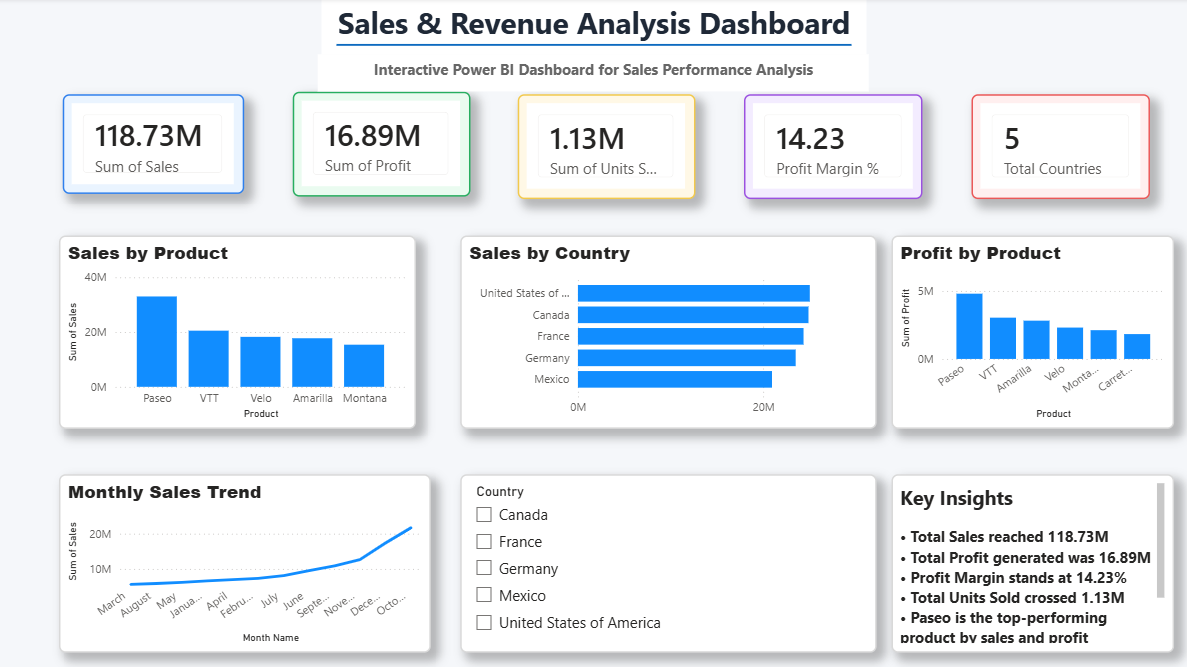

Layout of this report page (visuals, bound fields, positions):
{"tool":"powerbi","page":{"name":"Page 1","canvas":[1280,720],"ordinal":0},"visuals":[{"type":"cardVisual","fields":{"Data":["Sum(financials.Sales)"]},"box":[68.6,103.6,195,107.6],"z":0},{"type":"cardVisual","fields":{"Data":["Sum(financials.Profit)"]},"box":[315.7,100.9,191,113],"z":1000},{"type":"clusteredColumnChart","title":"Sales by Product","fields":{"Category":["financials.Product"],"Y":["Sum(financials.Sales)"]},"box":[64,256,384,208],"z":2000},{"type":"lineChart","title":"Monthly Sales Trend","fields":{"Category":["financials.Month Name"],"Y":["Sum(financials.Sales)"]},"box":[64,512,400,192],"z":3000},{"type":"clusteredBarChart","title":"Sales by Country","fields":{"Category":["financials.Country"],"Y":["Sum(financials.Sales)"]},"box":[496,256,448,208],"z":4000},{"type":"slicer","fields":{"Values":["financials.Country"]},"box":[496,512,448,192],"z":5000},{"type":"textbox","box":[346.8,0,586.3,60.5],"z":6000},{"type":"cardVisual","fields":{"Data":["Sum(financials.Units Sold)"]},"box":[558.8,103.6,191,113],"z":6001},{"type":"cardVisual","fields":{"Data":["financials.Profit Margin %"]},"box":[801.9,103.6,192.3,113],"z":6002},{"type":"clusteredColumnChart","title":"Profit by Product","fields":{"Category":["financials.Product"],"Y":["Sum(financials.Profit)"]},"box":[960,256,304,208],"z":6003},{"type":"cardVisual","fields":{"Data":["financials.Total Countries"]},"box":[1046.3,103.6,192.3,113],"z":6004},{"type":"textbox","box":[960,512,304,192],"z":6005},{"type":"textbox","box":[342.9,60.5,593.1,40.3],"z":6006},{"type":"shape","box":[363,0,554.1,100.9],"z":6007}]}

Visuals, with their boxes in screenshot pixels (x1, y1, x2, y2), scaled from the page's 1280x720 canvas onto the 1187x667 screenshot:
cardVisual - Sum(financials.Sales): <bbox>64, 96, 244, 196</bbox>
cardVisual - Sum(financials.Profit): <bbox>293, 93, 470, 198</bbox>
"Sales by Product" clusteredColumnChart: <bbox>59, 237, 415, 430</bbox>
"Monthly Sales Trend" lineChart: <bbox>59, 474, 430, 652</bbox>
"Sales by Country" clusteredBarChart: <bbox>460, 237, 875, 430</bbox>
slicer - financials.Country: <bbox>460, 474, 875, 652</bbox>
textbox: <bbox>322, 0, 865, 56</bbox>
cardVisual - Sum(financials.Units Sold): <bbox>518, 96, 695, 201</bbox>
cardVisual - financials.Profit Margin %: <bbox>744, 96, 922, 201</bbox>
"Profit by Product" clusteredColumnChart: <bbox>890, 237, 1172, 430</bbox>
cardVisual - financials.Total Countries: <bbox>970, 96, 1149, 201</bbox>
textbox: <bbox>890, 474, 1172, 652</bbox>
textbox: <bbox>318, 56, 868, 93</bbox>
shape: <bbox>337, 0, 850, 93</bbox>
